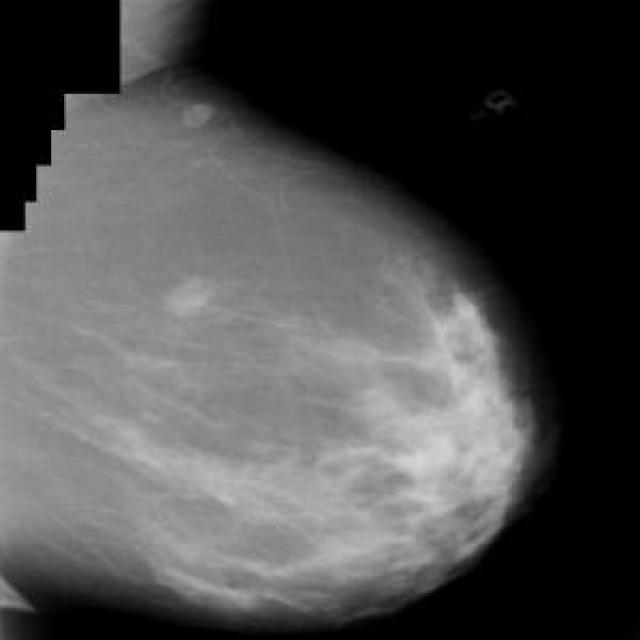tumor: (354, 284, 497, 559), (149, 268, 235, 330)
